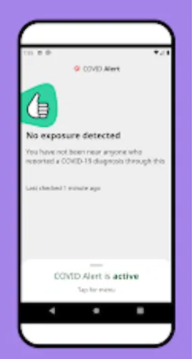Safe: (20, 80, 130, 143)
